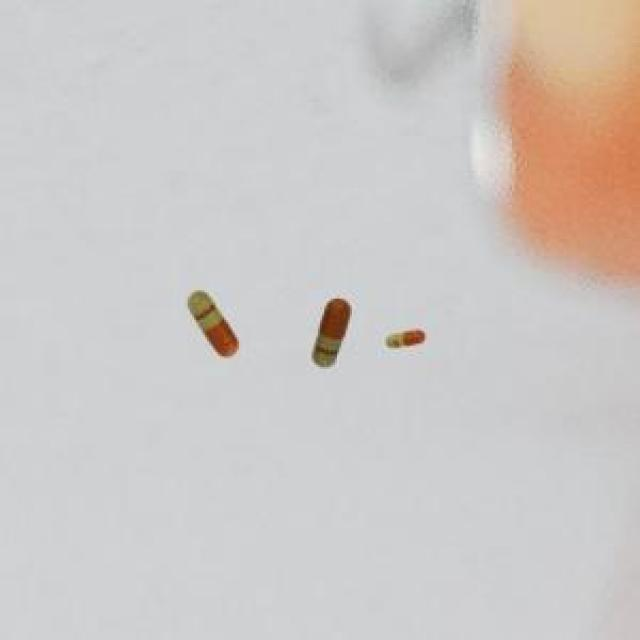Alaxan: (185, 286, 243, 364), (308, 292, 356, 372), (379, 323, 431, 355)
